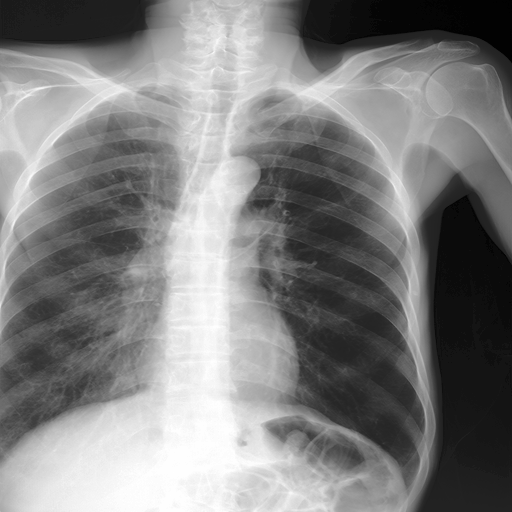Pneumothorax: (231, 217, 280, 260), (288, 99, 312, 136)
